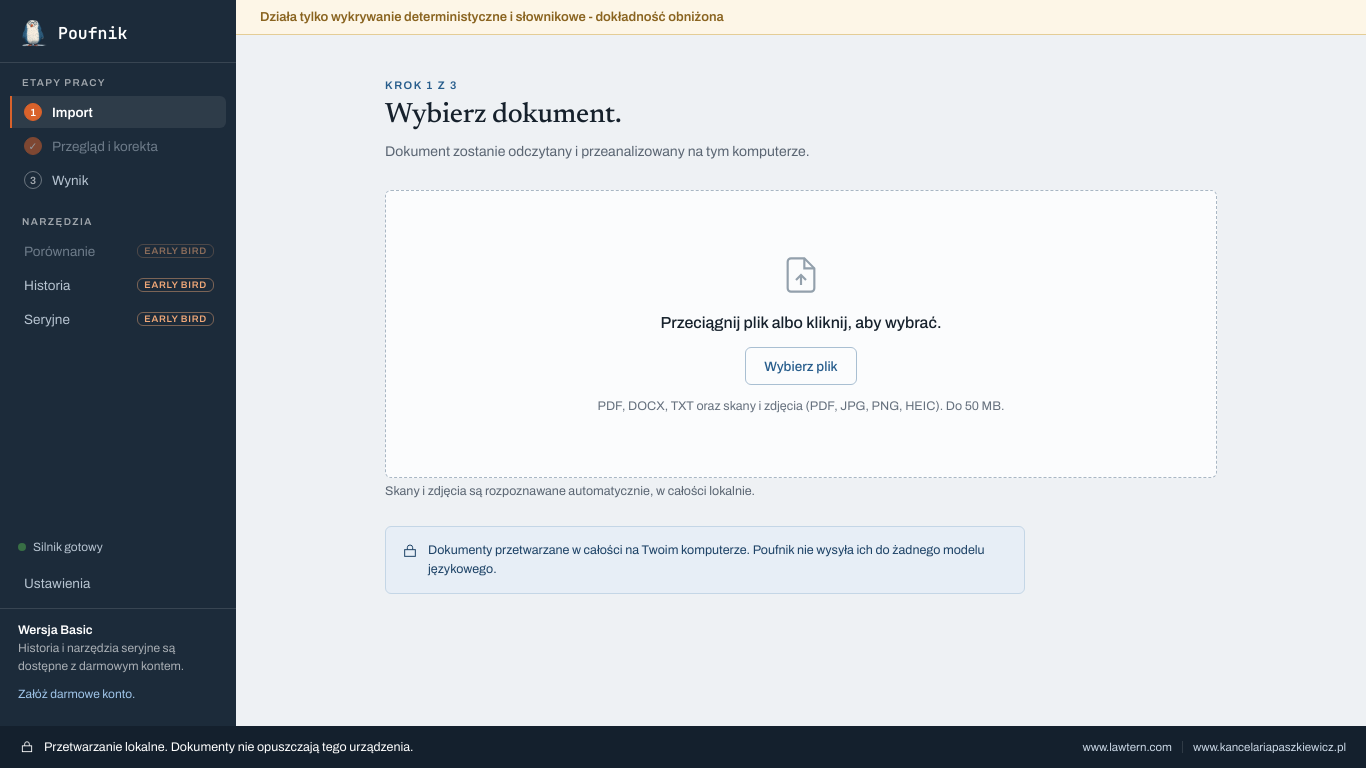
Test: App engine health › offers a way back to the result from a locked tool's gate when a result exists
Expected: the heading "Wybierz dokument." is shown, [385,101,621,129]
Click the button "Historia Early Bird" at [118, 285], box [10,269,226,301]
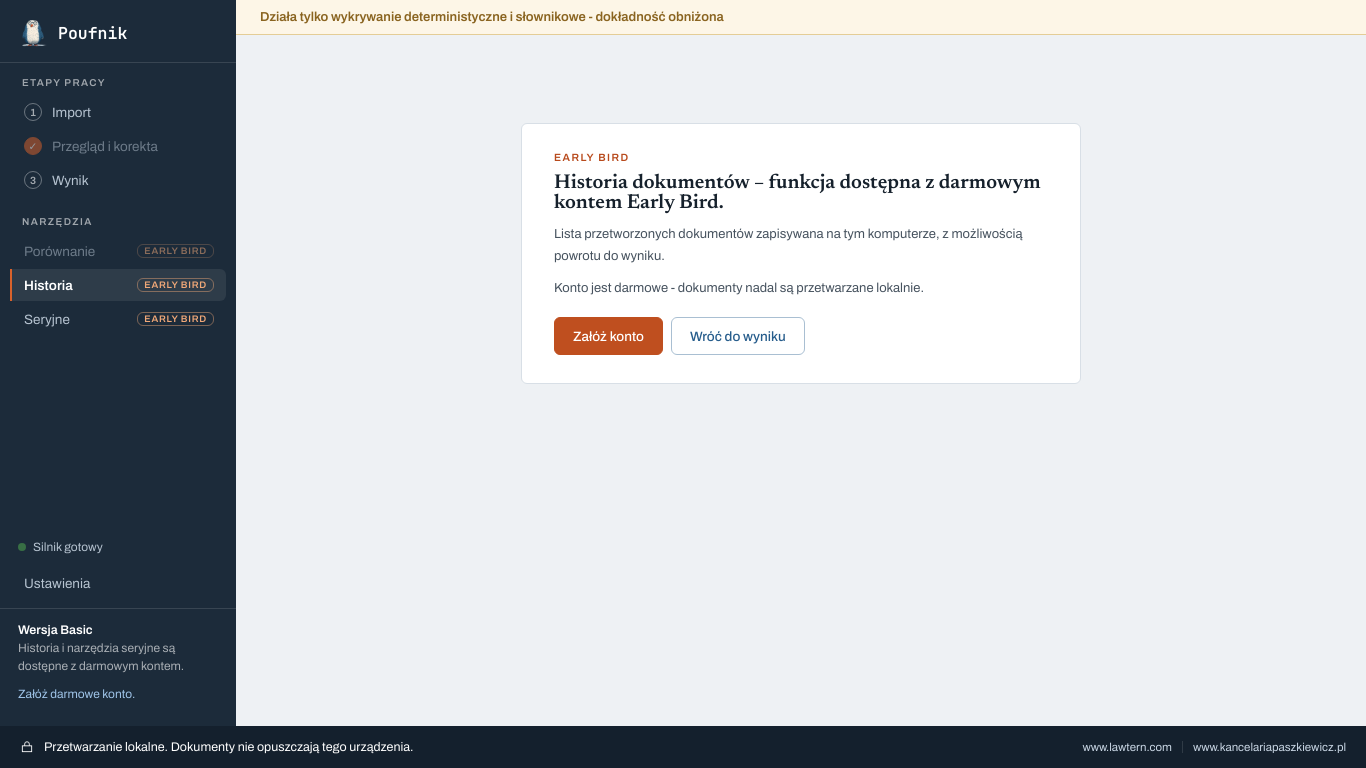
Click the button "Wróć do wyniku" at [738, 336], box [671,317,805,355]
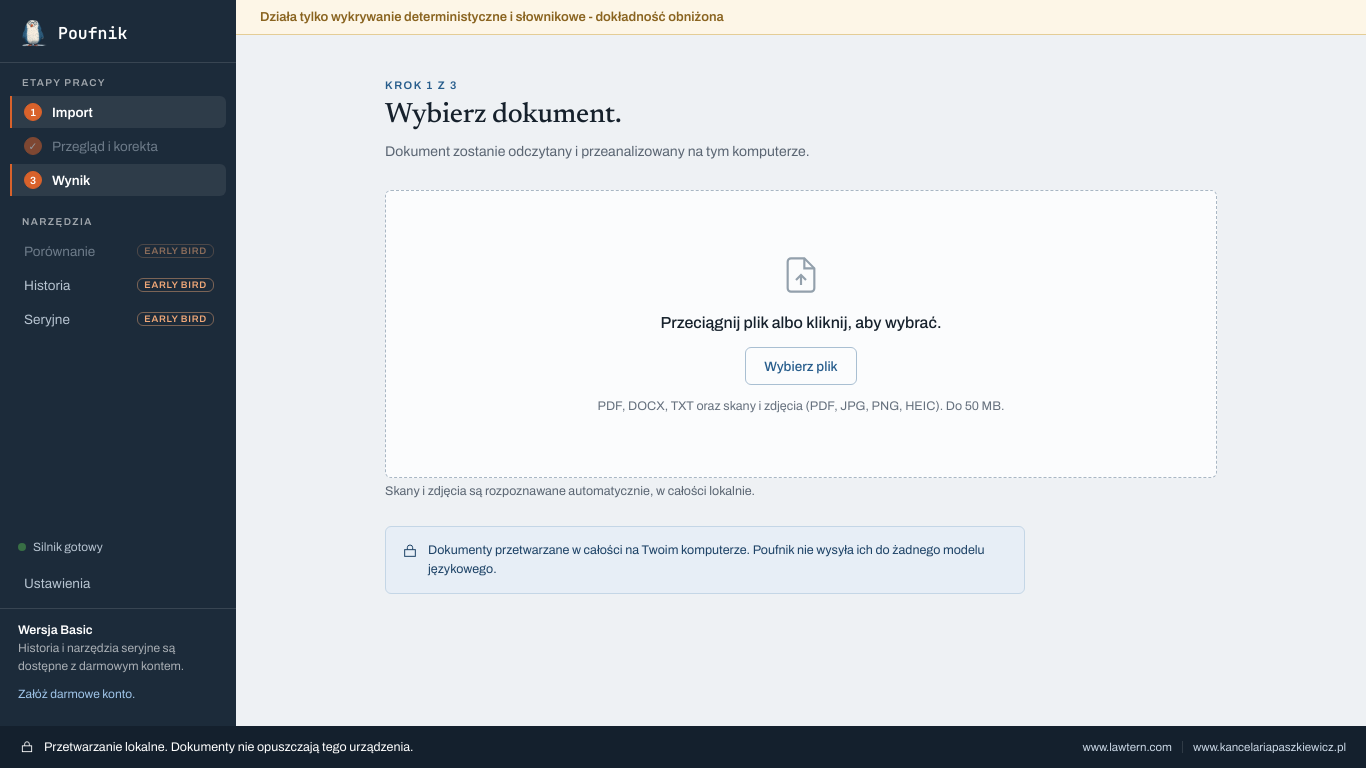
Result: the element with test id "tier-gate" is gone
